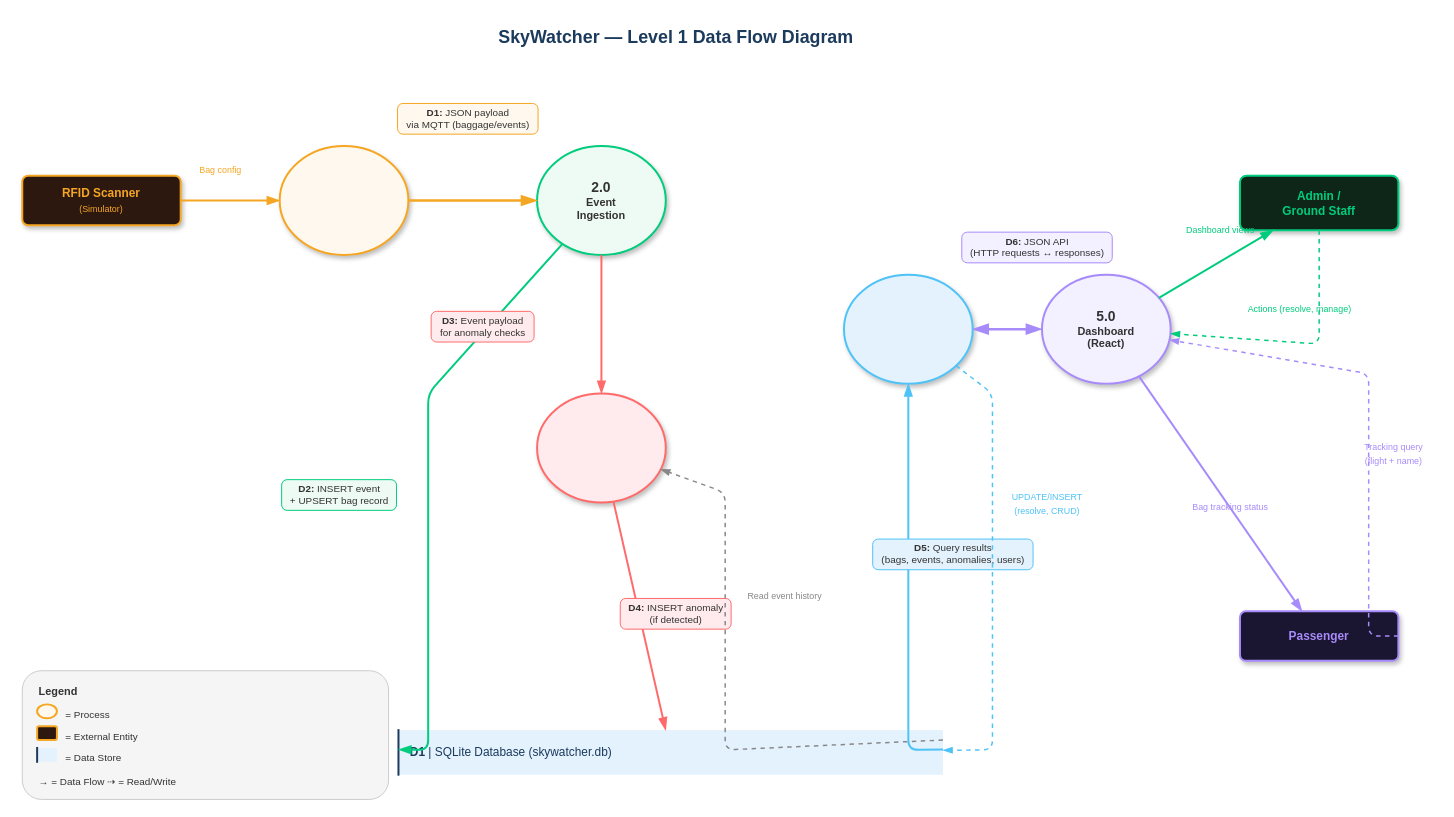
This 1454x817 diagram has some shape labels left out. The centre of each missing label's shape, as x and y in pixels:
"1.0 RFID Simulator" belongs at (x=344, y=201).
"3.0 Anomaly Detection" belongs at (x=602, y=449).
"4.0 REST API Server" belongs at (x=909, y=330).
